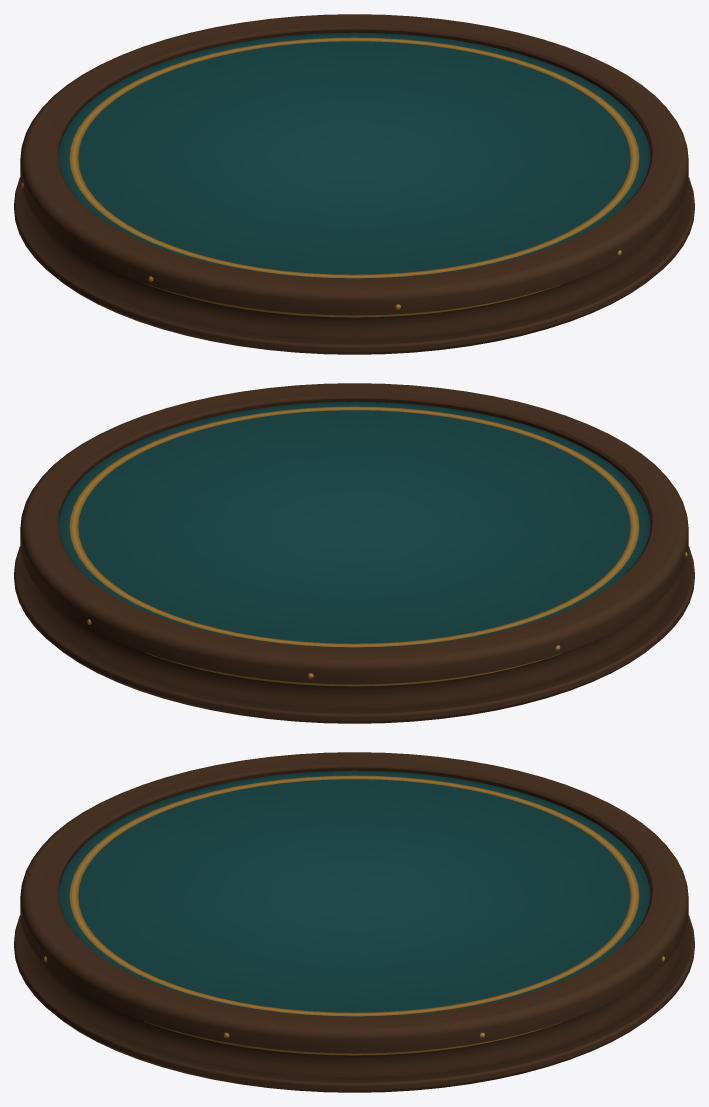
The model's file is tockton_base_round.glb.
The picture shows the model from 3 angles, top to bottom: view 1: azimuth 30°, elevation 25°; view 2: azimuth 150°, elevation 25°; view 3: azimuth 270°, elevation 25°; orthographic projection.
Visible parts, largest first — view 1: TocktonBaseRound; view 2: TocktonBaseRound; view 3: TocktonBaseRound.
Part boxes in pixels (x1,y1,x2,y2): TocktonBaseRound: (14,14,694,354); TocktonBaseRound: (14,383,694,723); TocktonBaseRound: (14,752,694,1092).
Bounding box in the file's own units: 0.46 × 0.045 × 0.46.
